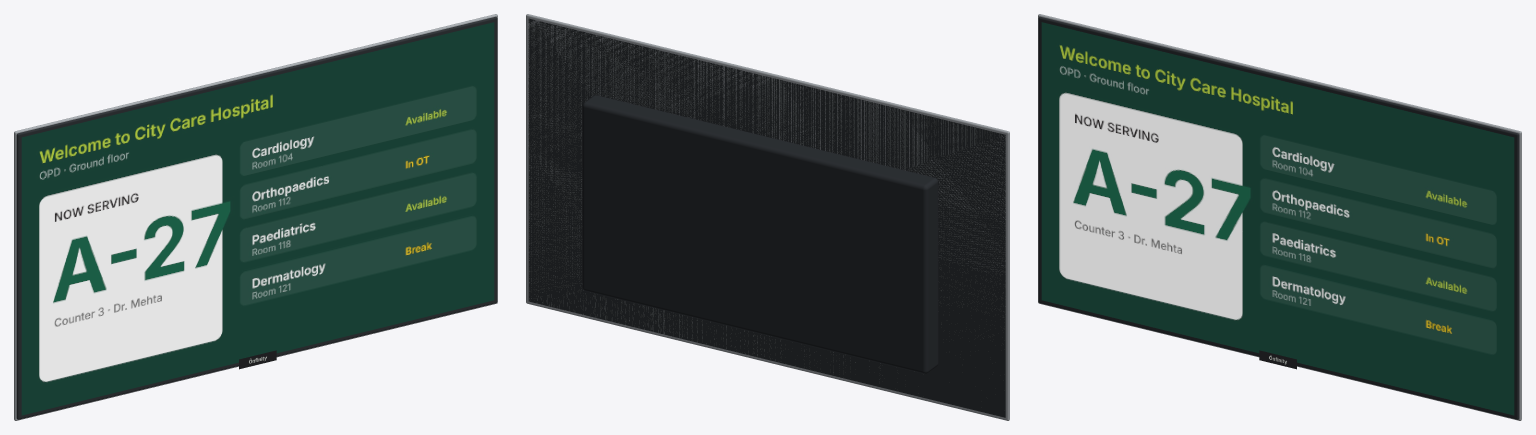
File: display-info.glb
3 renders of one model, left to right at view 1: azimuth 30°, elevation 25°; view 2: azimuth 150°, elevation 25°; view 3: azimuth 330°, elevation 25°, orthographic.
Visible parts, largest first — view 1: display-info; view 2: display-info; view 3: display-info.
Boxes of the visible parts, left/top/right/bottom form: display-info: left=14, top=14, right=497, bottom=420; display-info: left=526, top=14, right=1009, bottom=420; display-info: left=1038, top=14, right=1521, bottom=420.
Bounding box in the file's own units: 1.25 × 0.7156 × 0.0726.
Materials: 5 (2 with a texture image).
